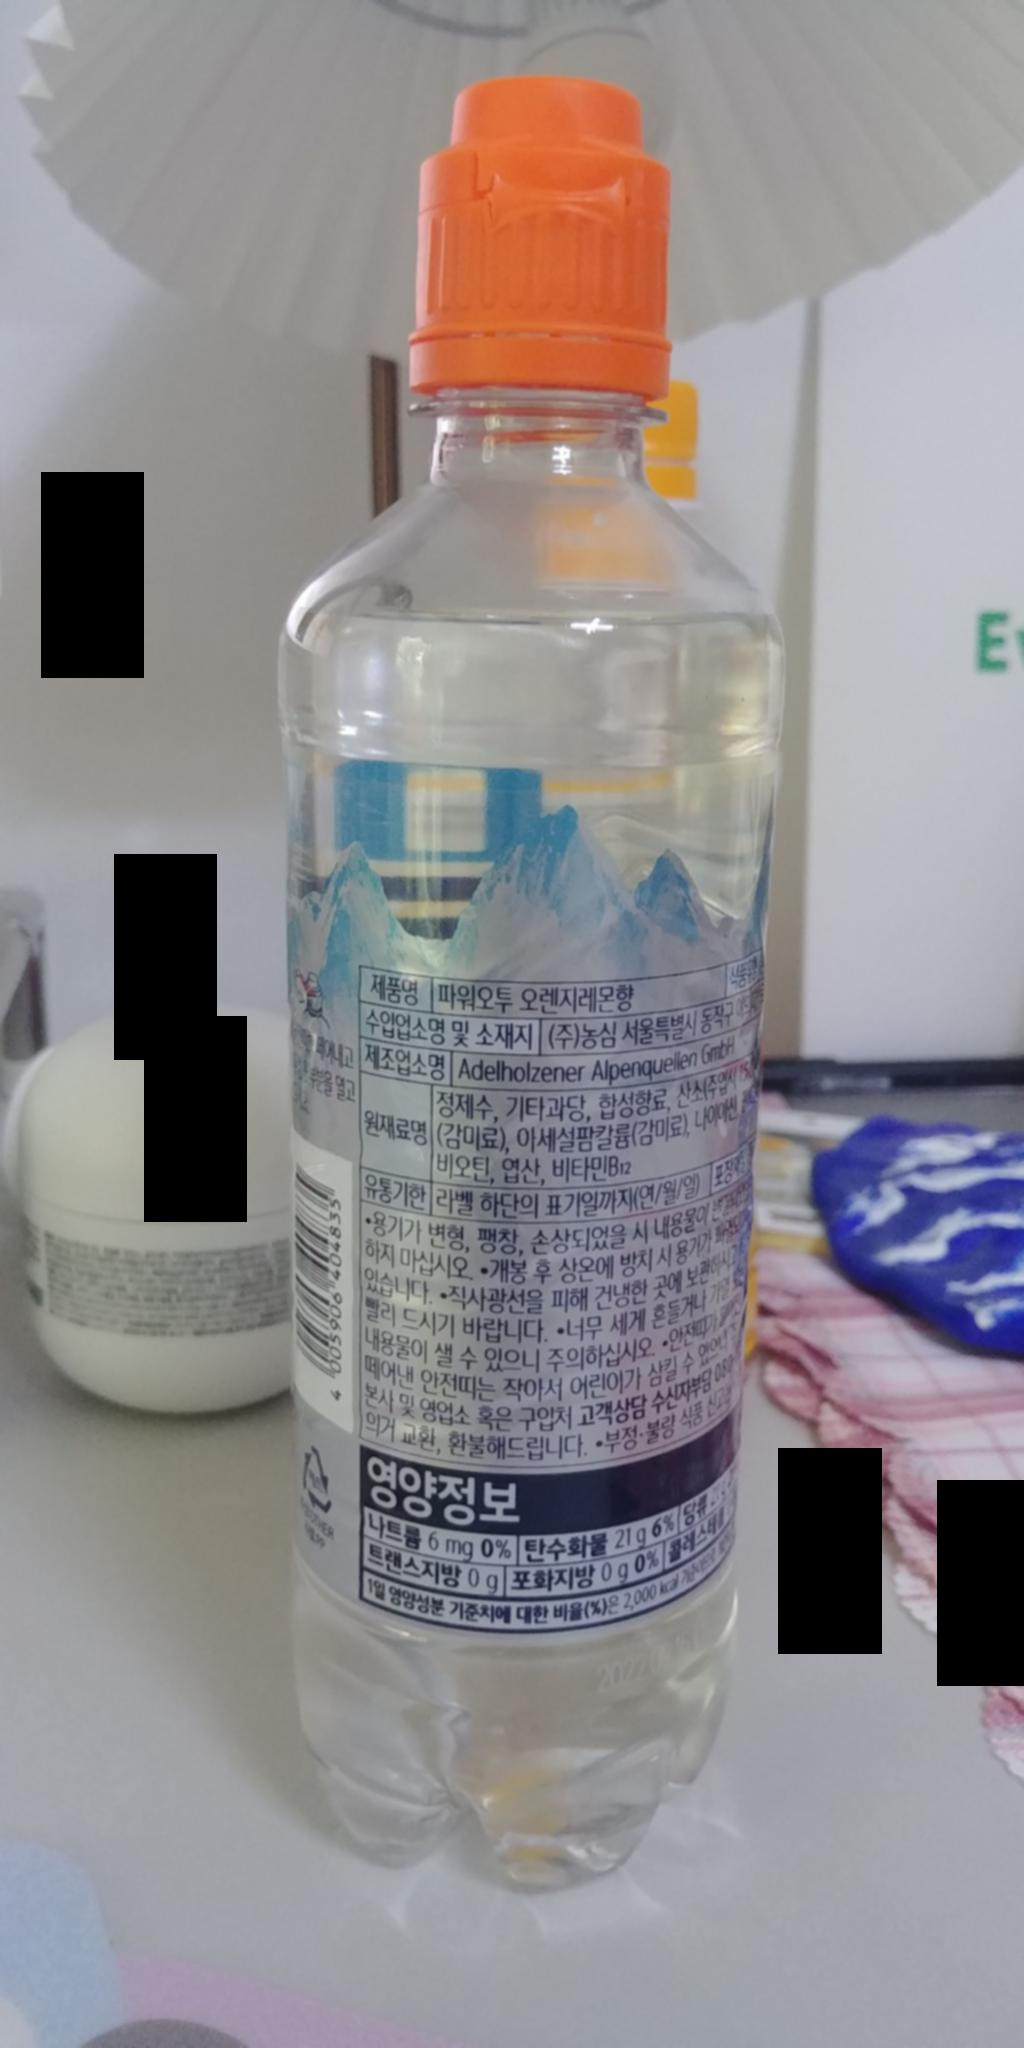powerO2_orange: (239, 39, 823, 1921)
